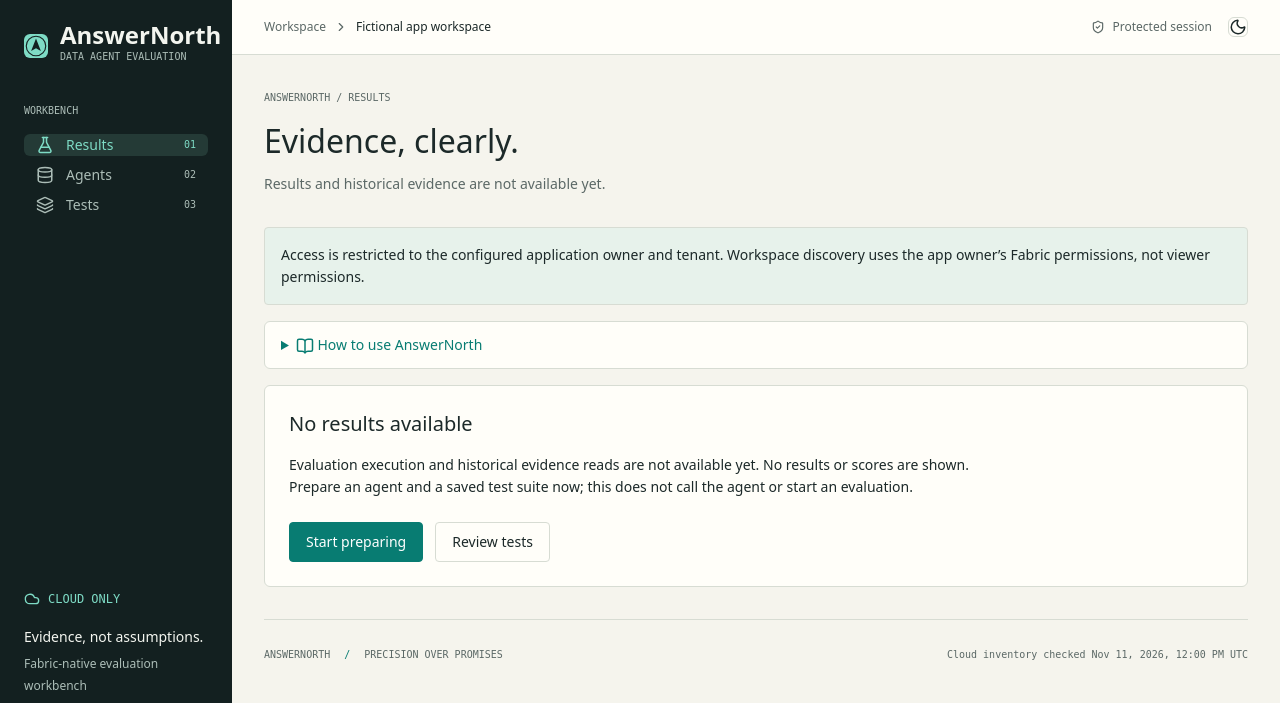
Test case: Proofbench › validates manually selected workspace IDs without making an unauthorized request
Check: the text "Fictional app workspace" is shown, box [356, 16, 491, 38]
Click the link "Agents 02" at (89,174), box [24, 164, 208, 186]
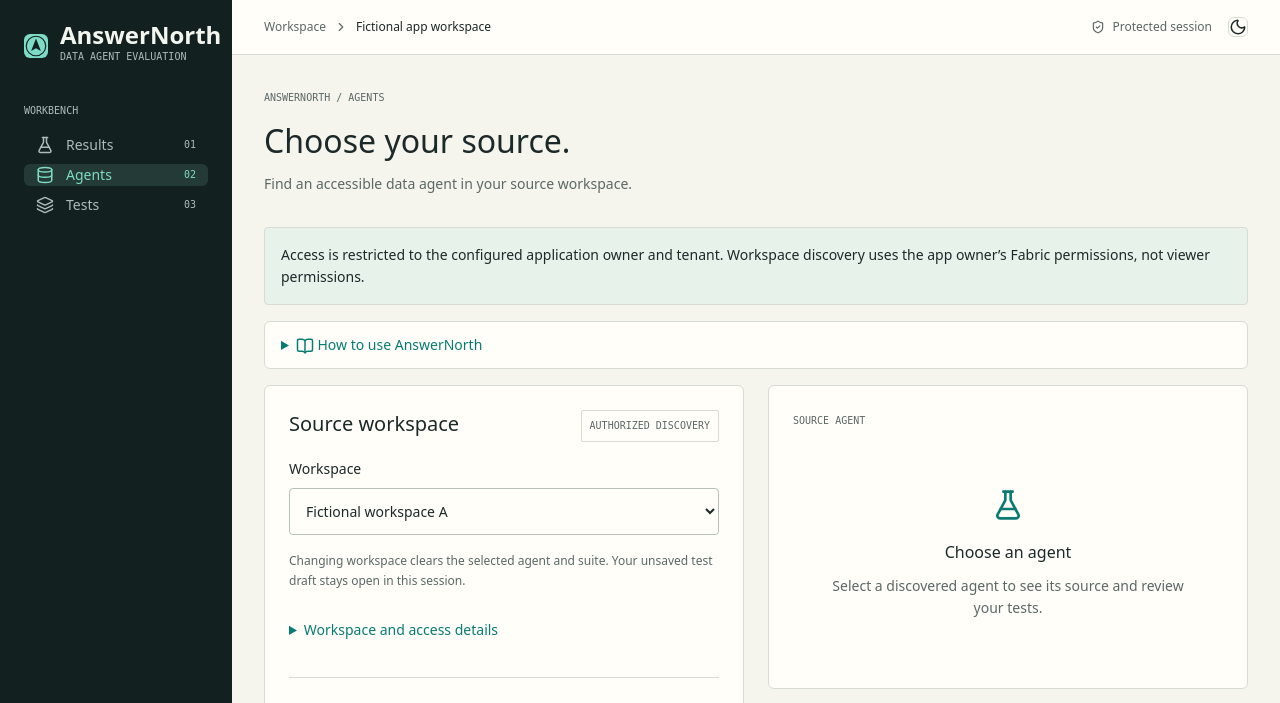
Click the heading "Workspace and access details" at (401,630), box [304, 620, 498, 639]
(page scrolled)
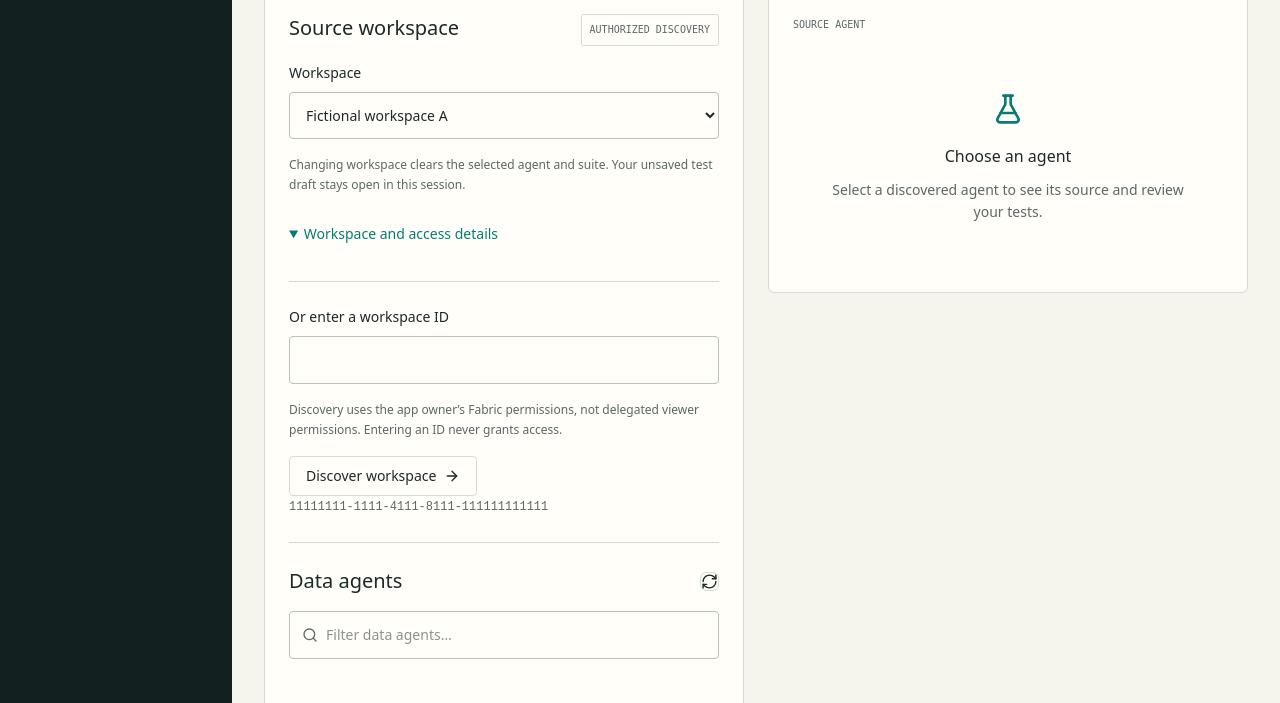
Type "not-an-id" into the field labelled "Or enter a workspace ID" at (504,360), box [289, 336, 719, 384]
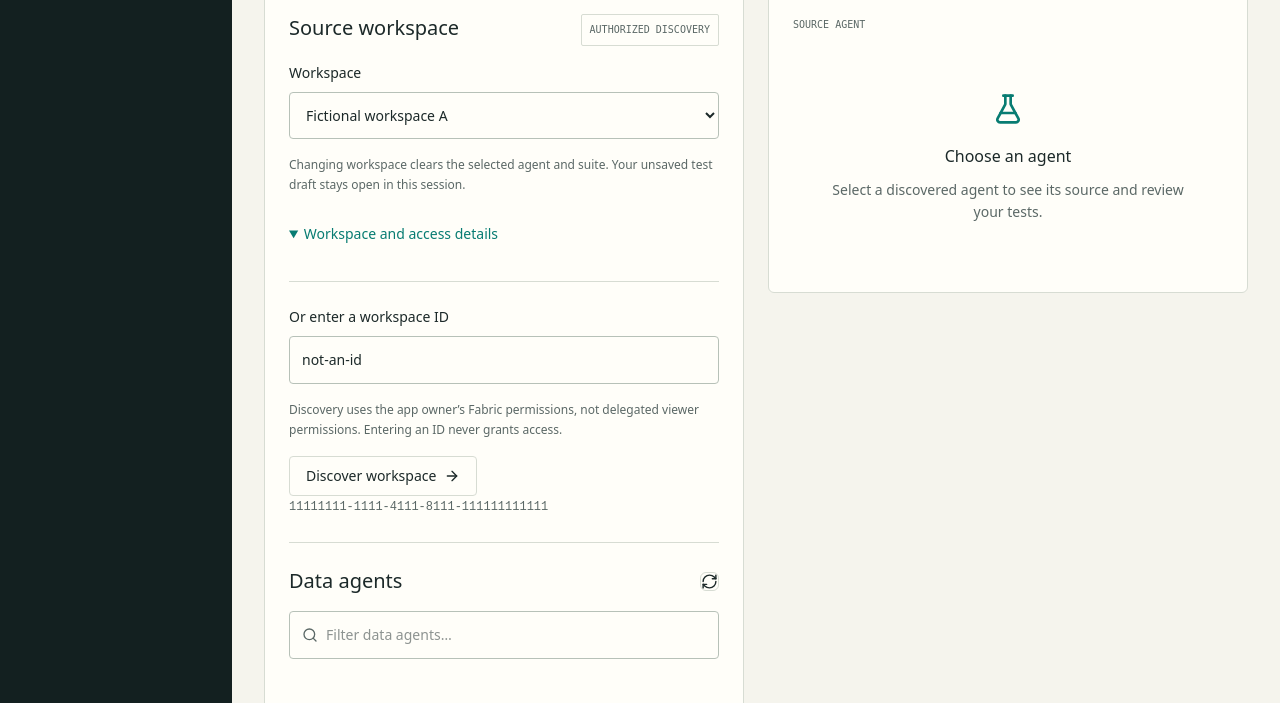
Click the button "Discover workspace" at (383,476), box [289, 456, 477, 496]
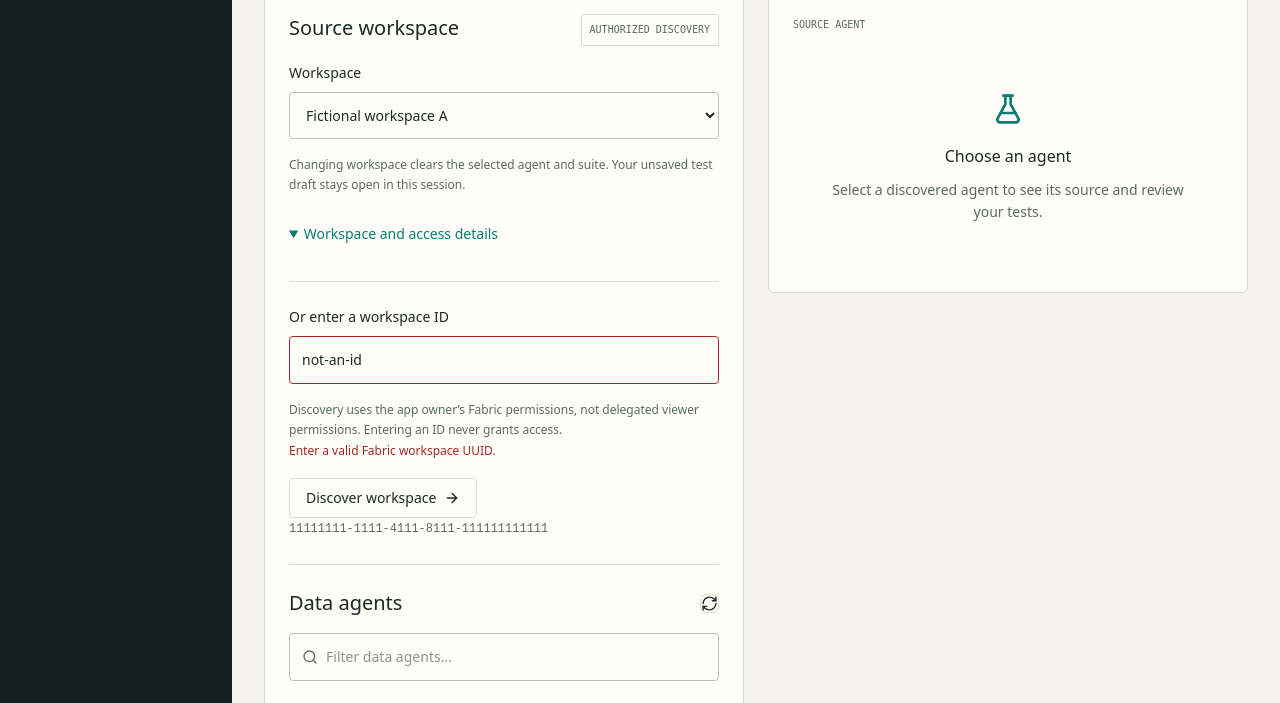
Check: the message shows "valid Fabric workspace UUID", box [289, 442, 496, 459]
